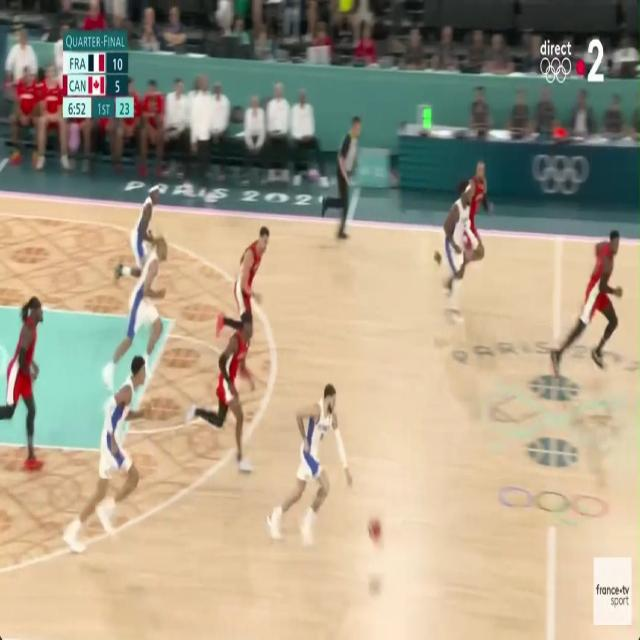ball_handler: (296, 382, 382, 552)
